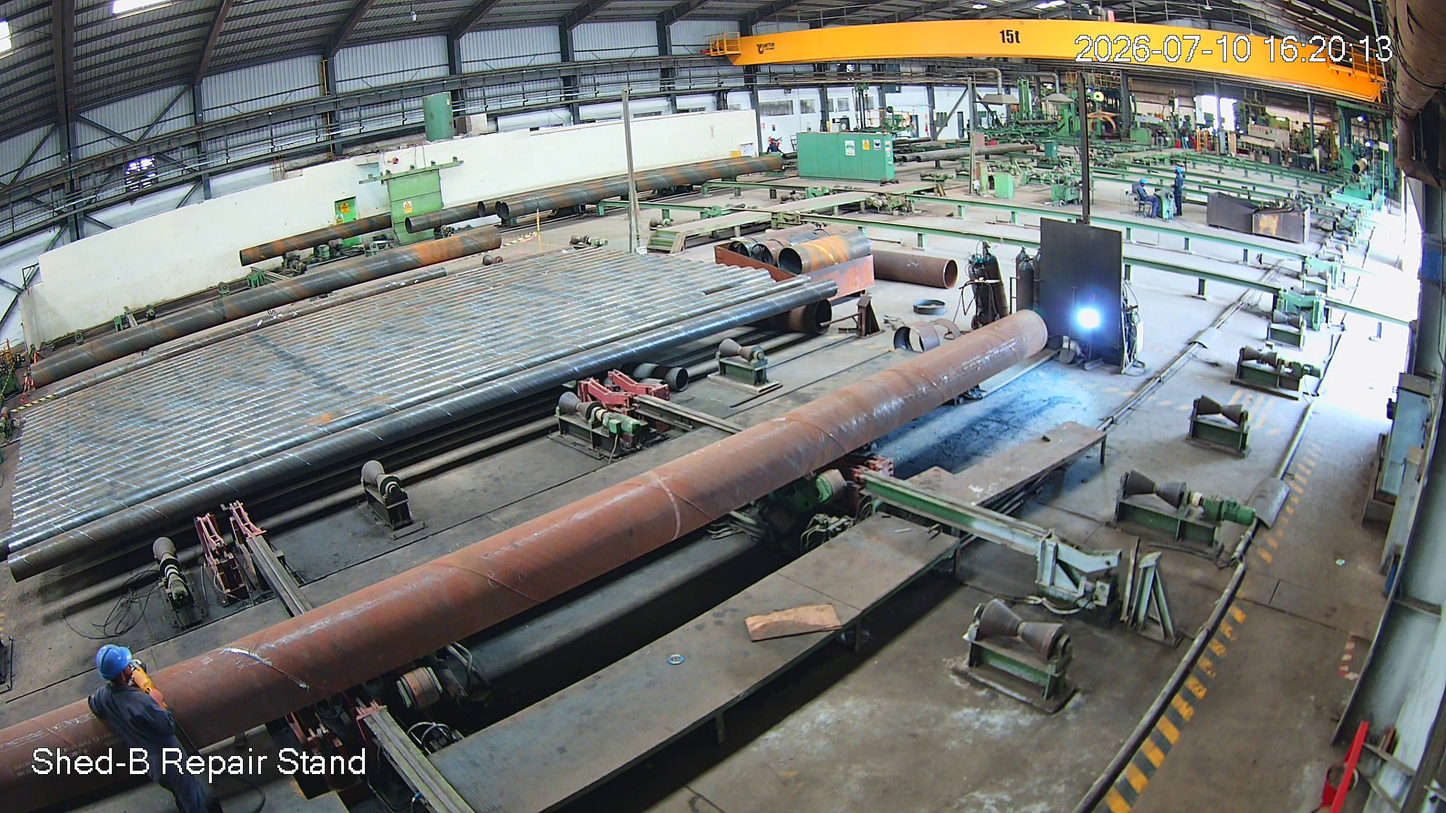Helmet: (90, 639, 148, 703)
Person: (77, 650, 216, 813)
